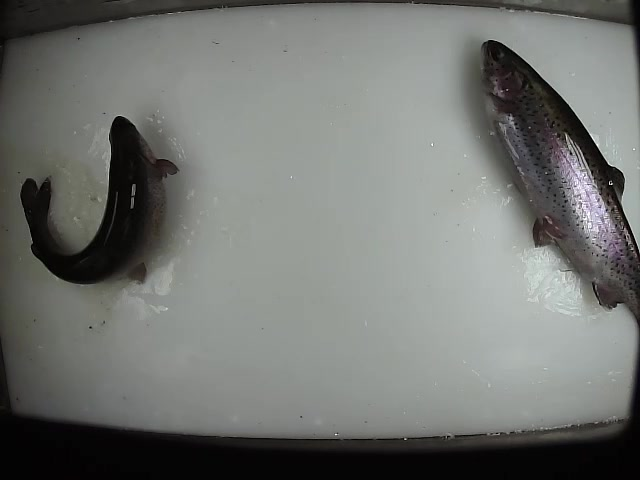fish: (476, 38, 640, 330), (19, 115, 180, 287)
